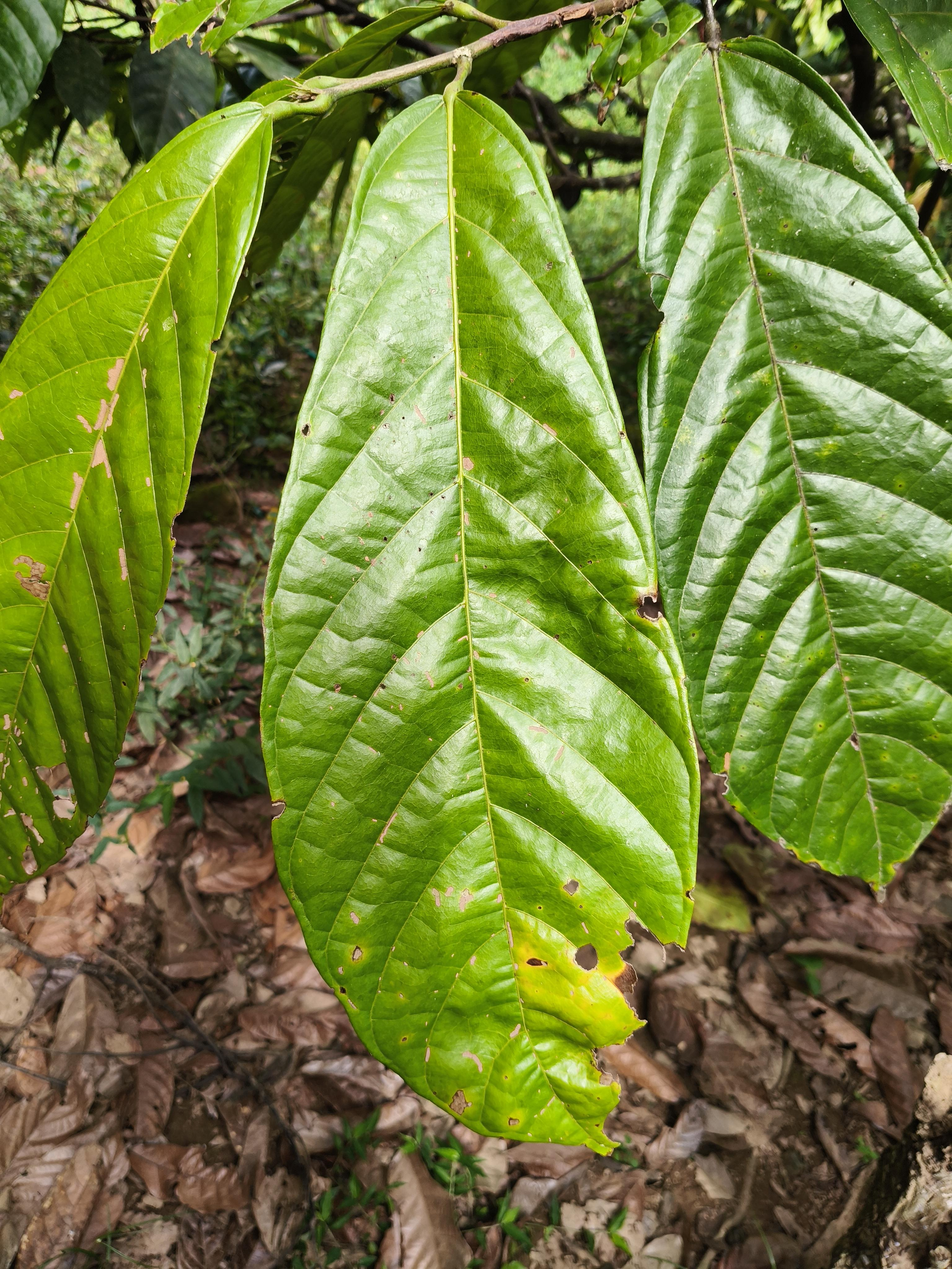deficiencia_potasio: (263, 84, 688, 1137)
